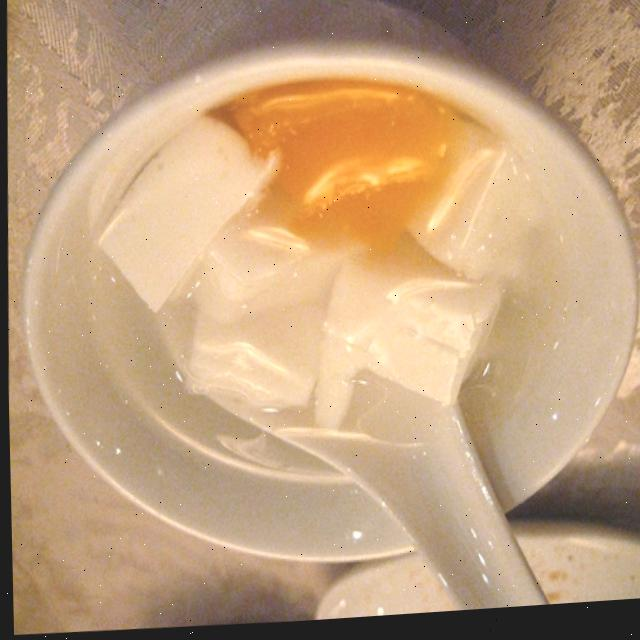牛肉菜式: (6, 46, 435, 479)
